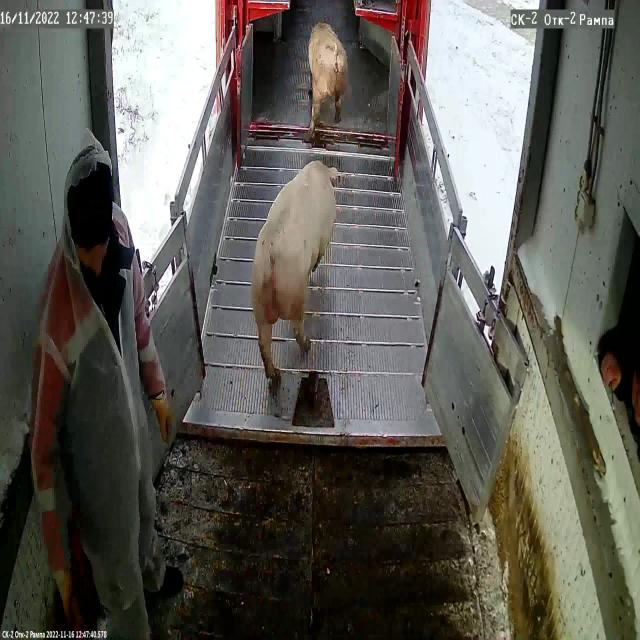pig: (251, 161, 337, 383), (308, 22, 348, 134)
